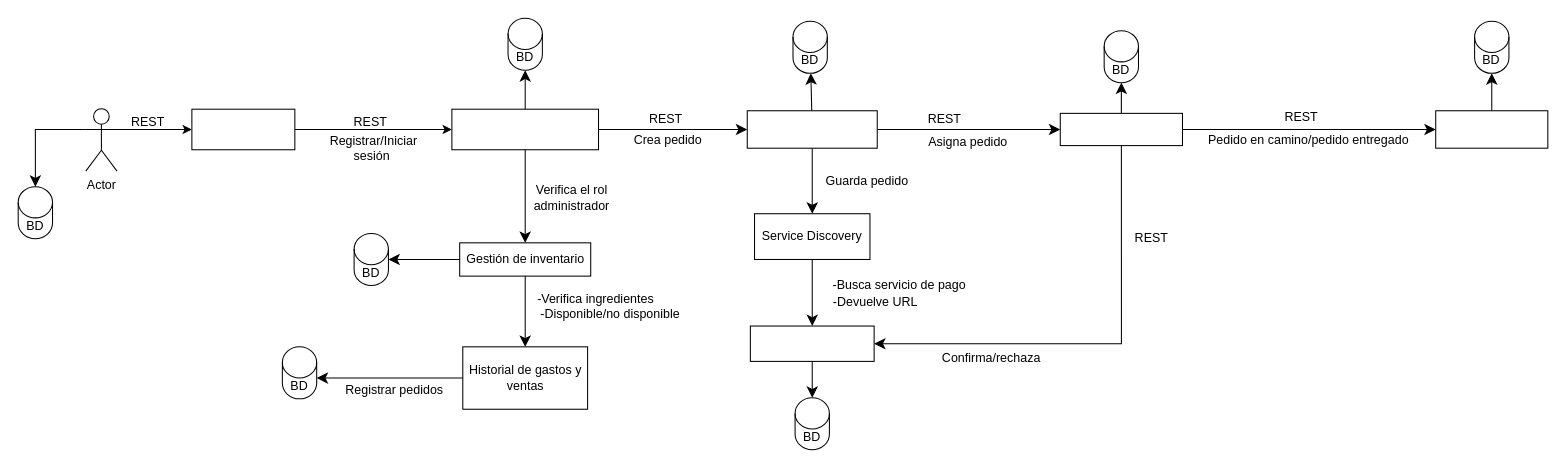
Some shapes in this 1566 by 468 pixel diagram are drawn without their labels. The shapes that lost their labels are listed below. From the top down, each one's box as (x1, y1, x2, y2) in pixels, then its label:
(191, 108, 295, 150): API Gateway
(451, 108, 599, 150): Registro y autenticación
(746, 110, 877, 148): Gestión de pedidos
(1059, 112, 1182, 146): Delivery
(1435, 110, 1548, 148): notificaciones
(749, 325, 874, 361): Servicio de pago
